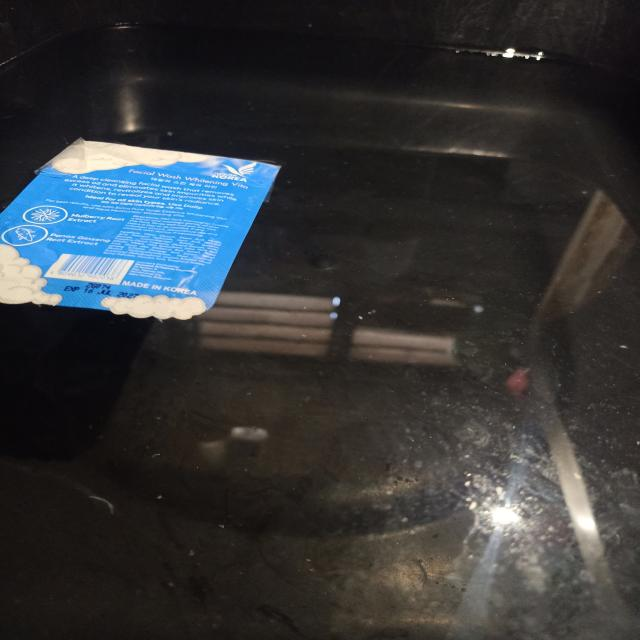Plastic Wrapper: (0, 139, 280, 319)
